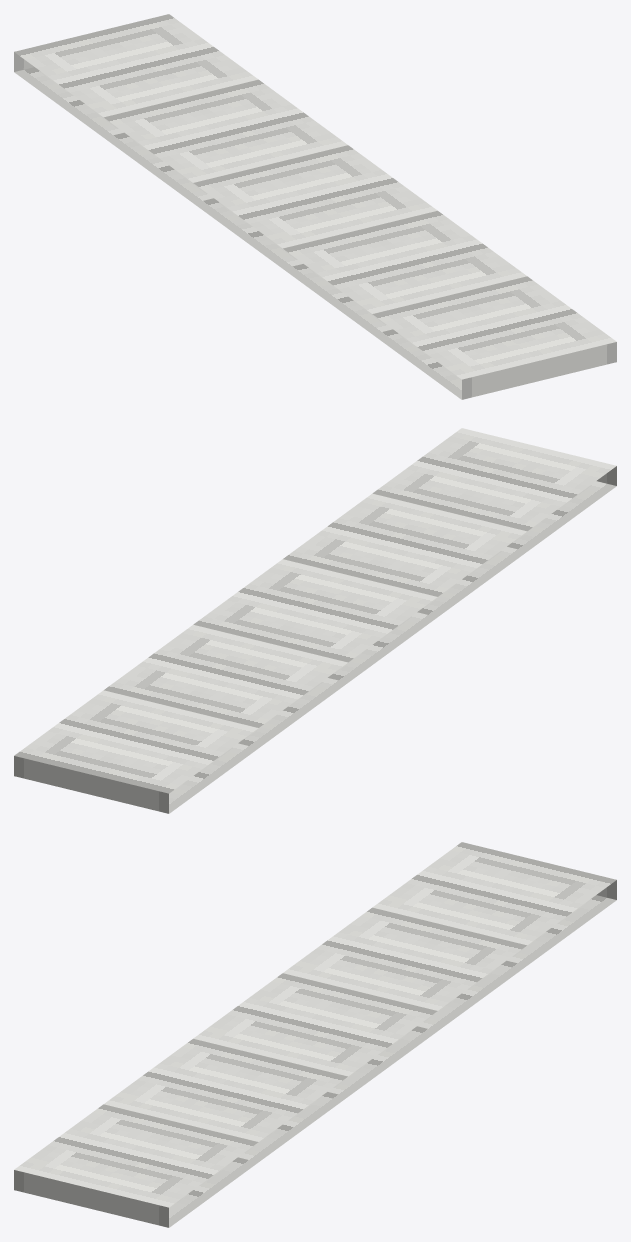
Rendered from white_run_5.obj.
3 renders of one model, top to bottom at view 1: azimuth 30°, elevation 25°; view 2: azimuth 150°, elevation 25°; view 3: azimuth 330°, elevation 25°, orthographic.
Parts seen in each view (by area): view 1: run; view 2: run; view 3: run.
Part boxes in pixels (left/top/right/bottom): run: left=14, top=14, right=616, bottom=399; run: left=14, top=428, right=616, bottom=813; run: left=14, top=842, right=616, bottom=1227.
Bounding box in the file's own units: 1 × 0.125 × 5.
